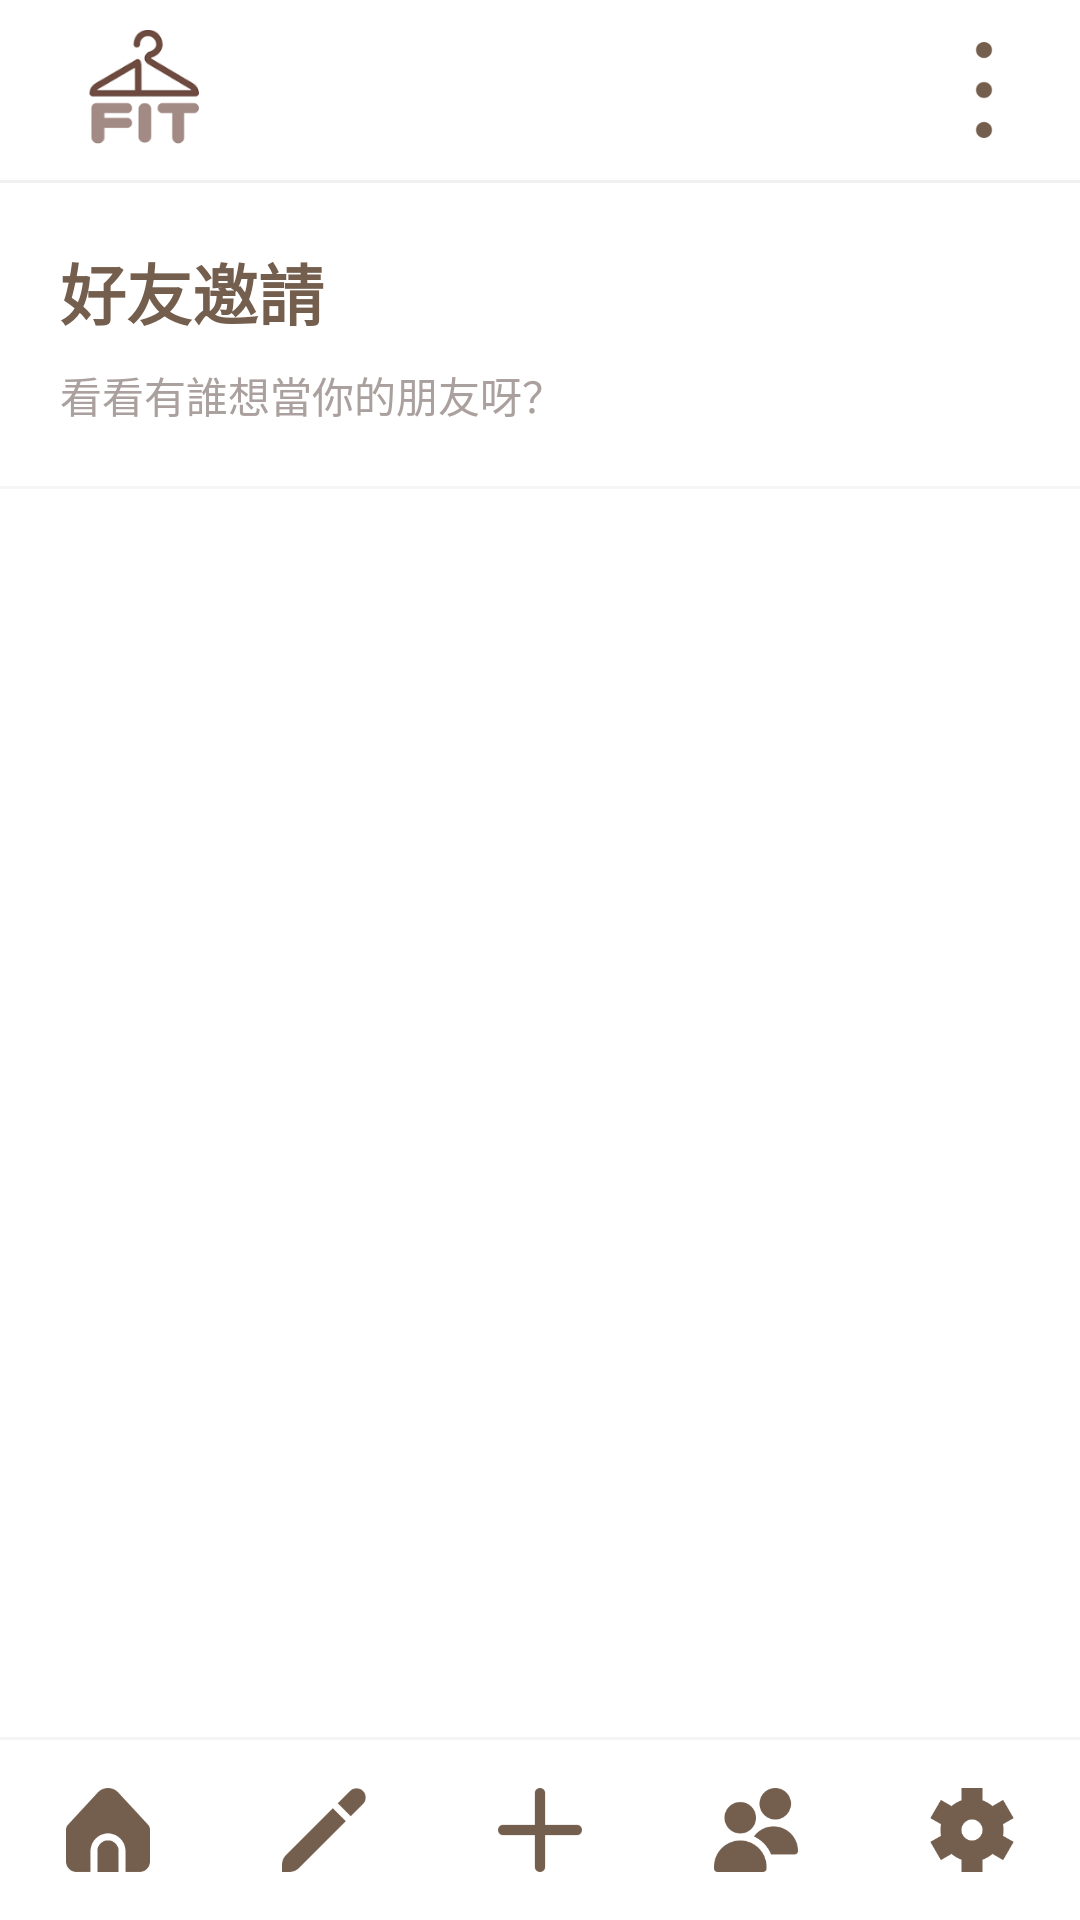

Icon bounding boxes for this 1080*1920 phone screenshot, format [x1=x1, y1=y1, x2=x2, y2=y2]:
home: [x1=66, y1=1788, x2=150, y2=1872]
menu: [x1=976, y1=42, x2=992, y2=138]
pencil: [x1=282, y1=1788, x2=366, y2=1872]
plus: [x1=498, y1=1788, x2=582, y2=1872]
settings: [x1=930, y1=1788, x2=1014, y2=1872]
users: [x1=714, y1=1788, x2=798, y2=1872]
